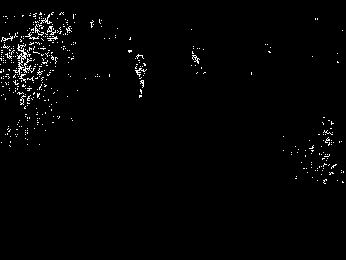person: (133, 52, 148, 98)
